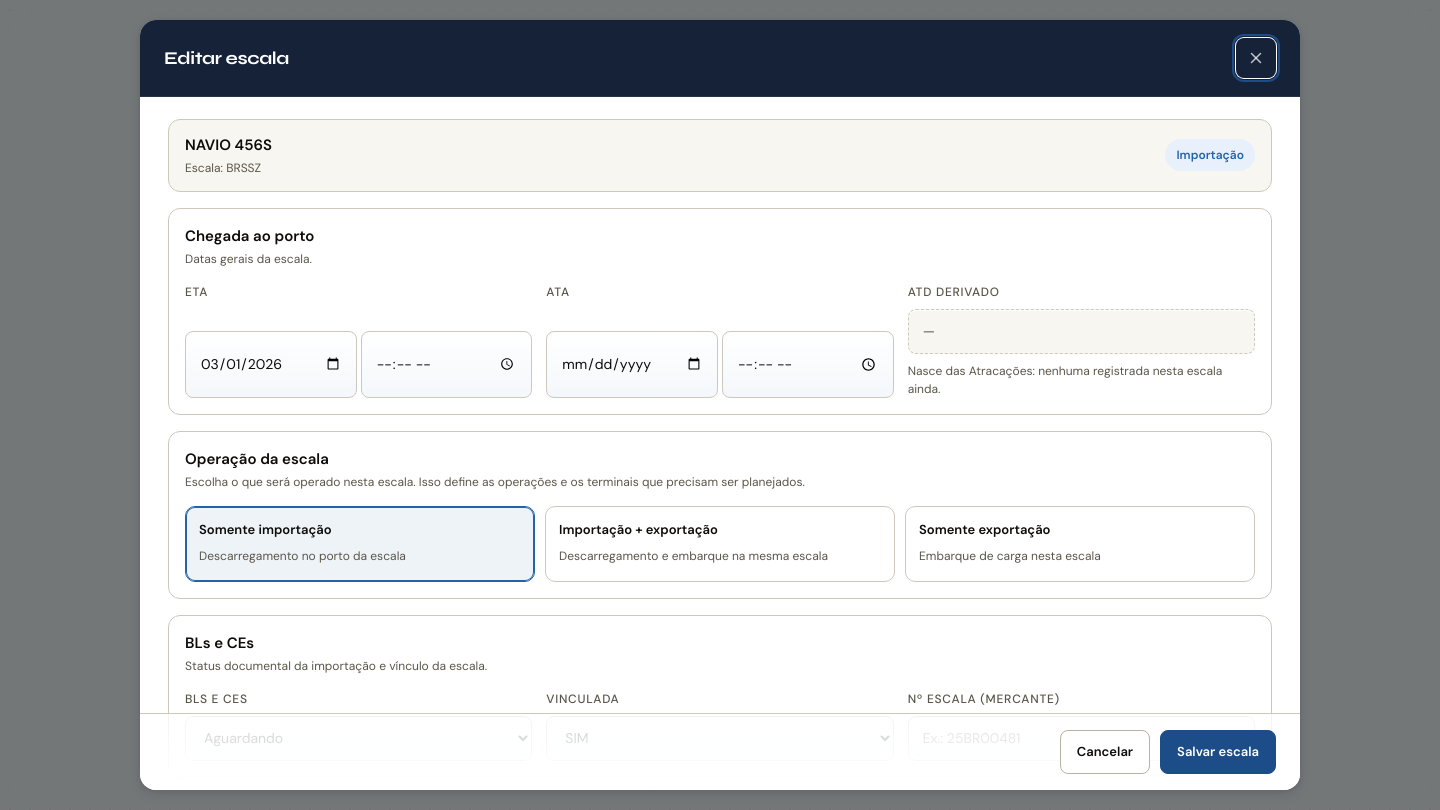
Scenario: EscalaModal › exige justificativa para alterar expectativa em escala já revisionada mesmo sem terminal atribuído
Click the button "Somente exportação" at x=985, y=529, box [905,506,1255,582]
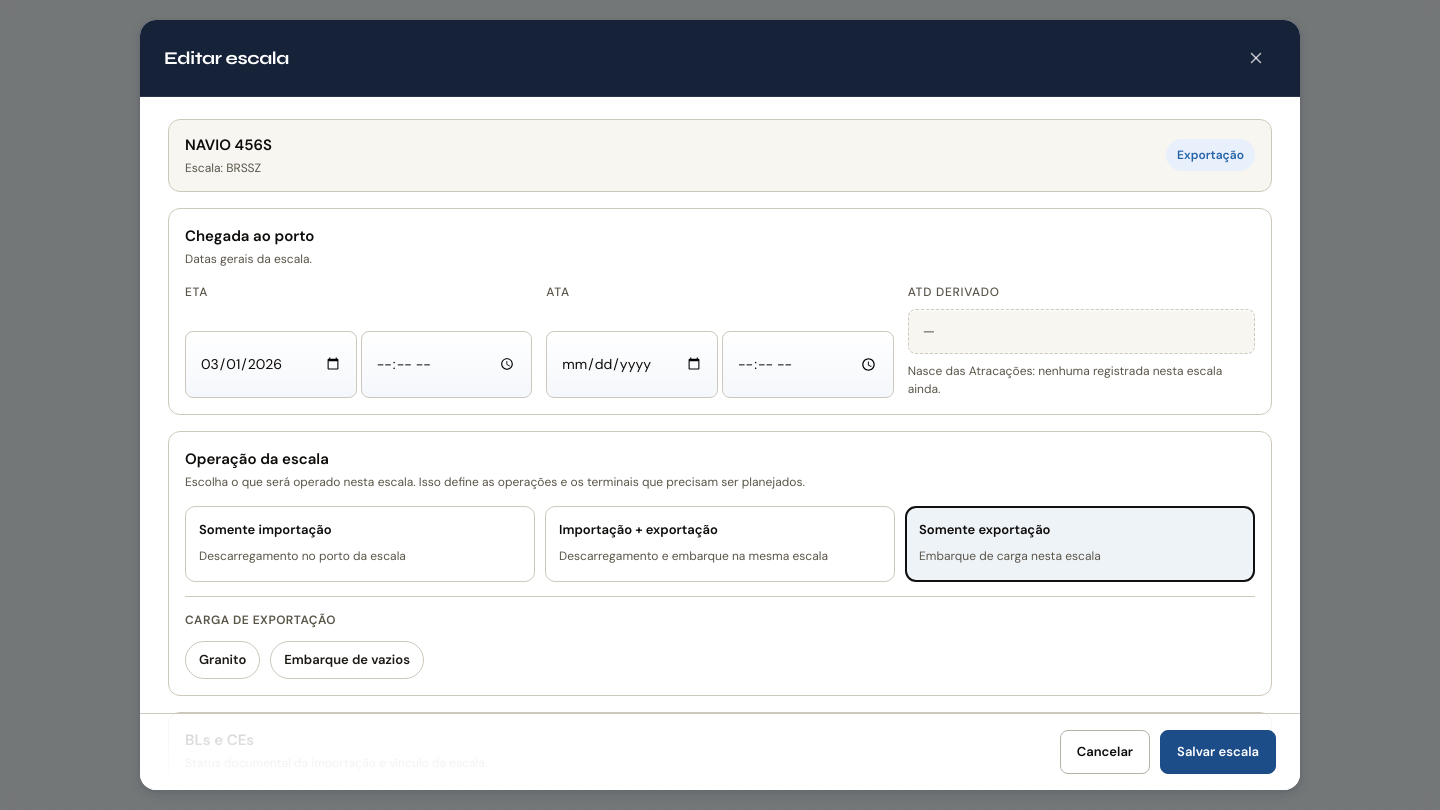
Click the button "Granito" at x=223, y=660, box [185,641,260,679]
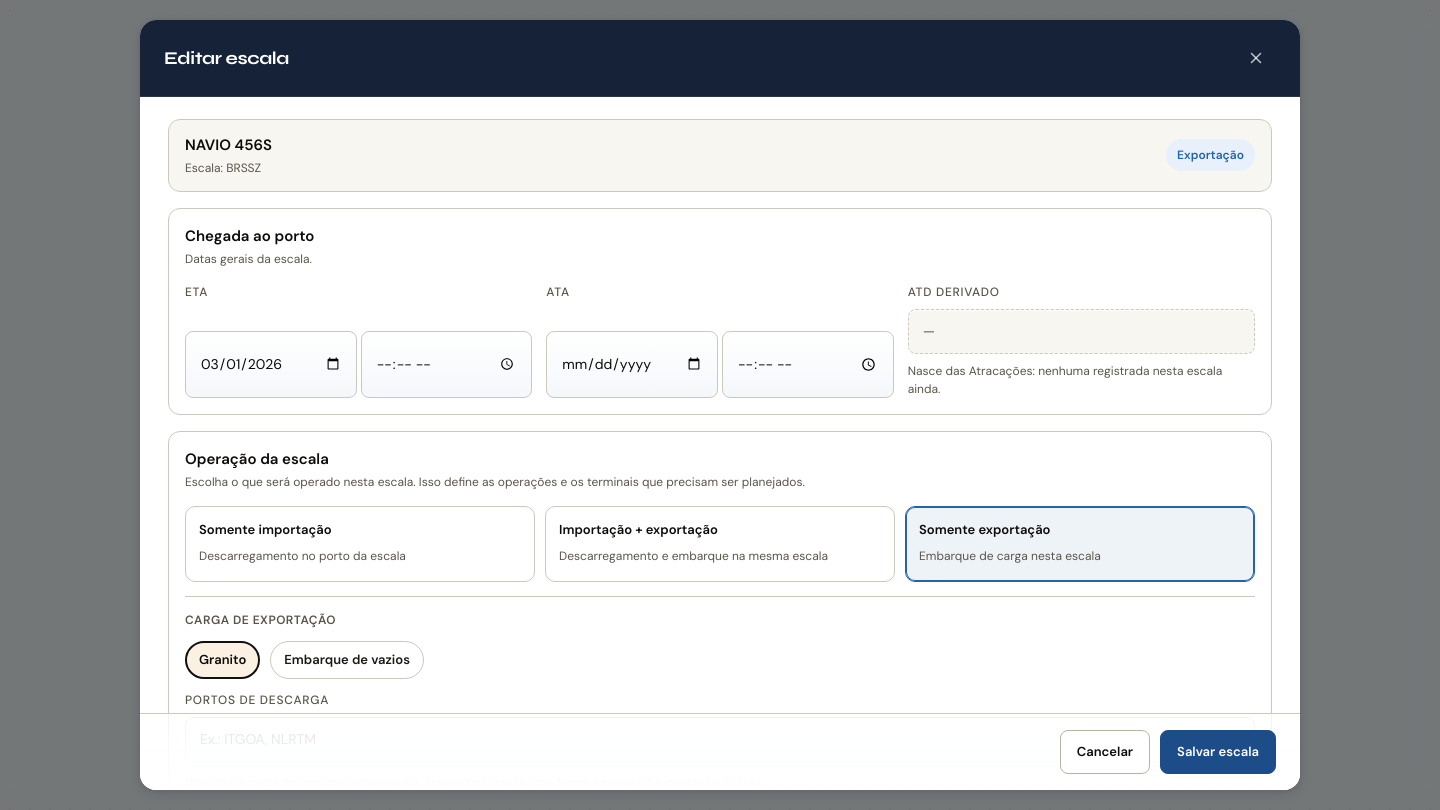
Click the button "Salvar escala" at x=1218, y=752, box [1160,730,1276,774]
(page scrolled)
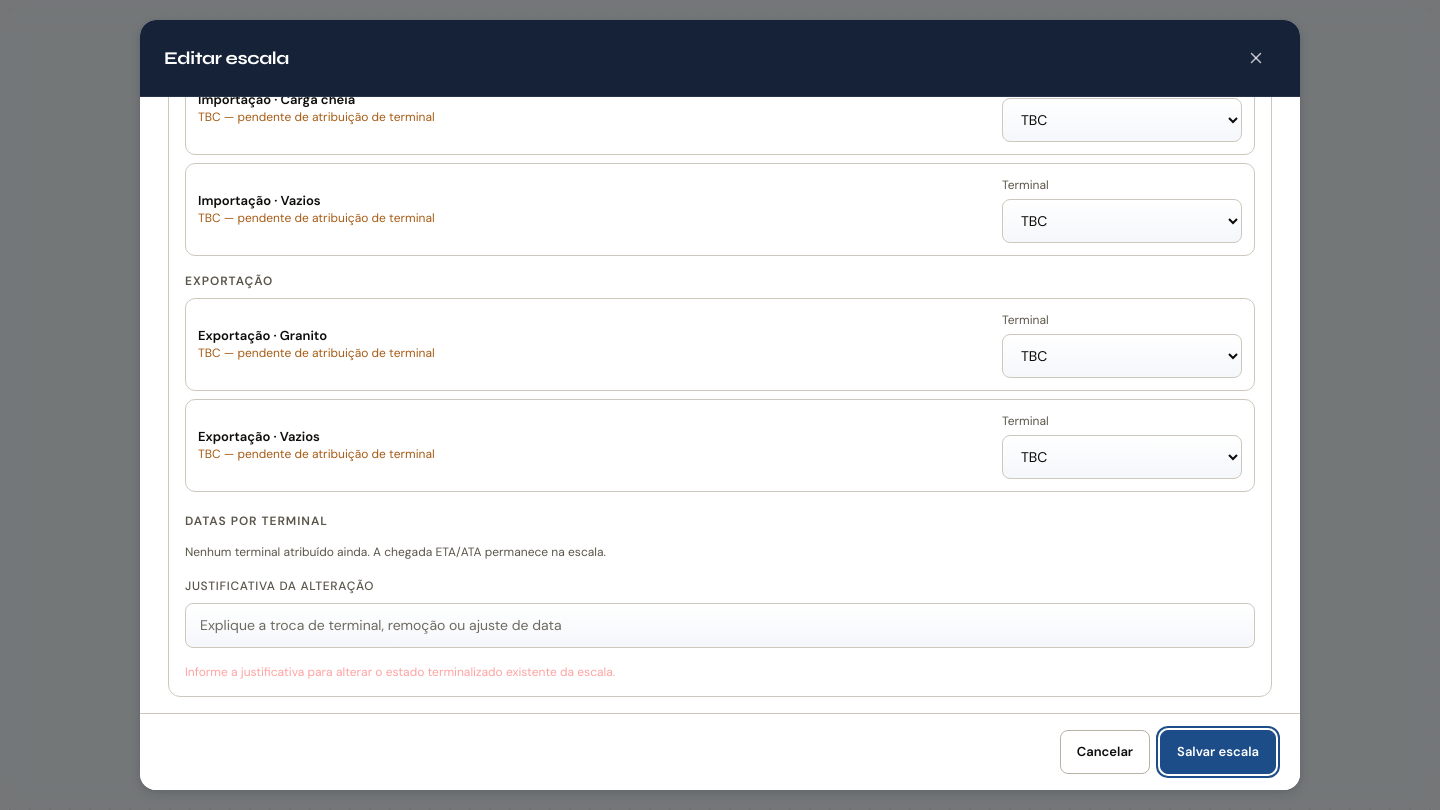
Check: the message shows "justificativa", box [185,664,615,680]
